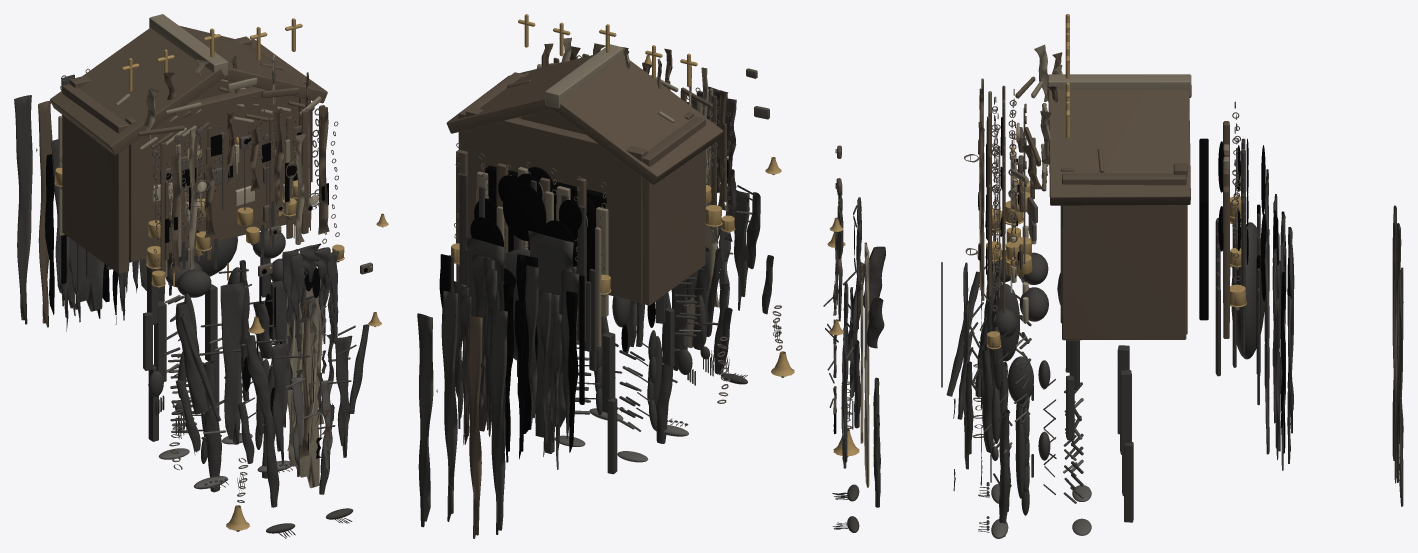
Rendered from penance_carrier_end_goal_v18_clay_authorship.glb.
3 views of the same model, side by side, from view 1: azimuth 30°, elevation 25°; view 2: azimuth 150°, elevation 25°; view 3: azimuth 270°, elevation 25° (orthographic). The views are drawn at different scales.
Visible parts, largest first — view 1: PC_V4_shrine_front_rotten_wall, PC_V4_shrine_left_side_wall, PC_V4_roof_left_steep_slab, PC_V18_back_rotten_hanging_tongue_00, PC_V11_left_torn_front_cloak_sheet, PC_V4_roof_right_steep_slab, PC_V15_rotten_wood_door_mask_broad_read, PC_V18_back_rotten_hanging_tongue_01, PC_V4_roof_ridge_heavy_rot, PC_V11_5_left_arm_pinched_wrapped_sculpt, PC_V18_body_gap_closing_weighted_cloth_00, PC_V11_back_rotten_skin_sheet_left (+42 smaller); view 2: PC_V4_shrine_rear_rotten_wall, PC_V4_roof_left_steep_slab, PC_V4_shrine_left_side_wall, PC_V4_roof_right_steep_slab, PC_V11_back_rotten_skin_sheet_left, PC_V18_back_rotten_hanging_tongue_00, PC_V18_back_rotten_hanging_tongue_02, PC_V18_back_rotten_hanging_tongue_03, PC_V18_back_rotten_hanging_tongue_01, PC_V11_back_deep_rotted_hole_01, PC_V4_roof_ridge_heavy_rot, PC_V4_back_black_rotten_hollow (+49 smaller); view 3: PC_V4_shrine_right_side_wall, PC_V4_roof_right_steep_slab, PC_V4_roof_ridge_heavy_rot, PC_V11_back_swollen_rotten_under_mass, PC_V4_back_black_rotten_hollow, PC_V15_rotten_wood_door_mask_broad_read, PC_V11_back_rotten_skin_sheet_right, PC_V5_back_rotten_vertical_plank_07, PC_V11_5_right_leg_compressed_wrapped_sculpt, PC_V18_back_rotten_hanging_tongue_03, PC_V11_5_right_arm_pinched_wrapped_sculpt, PC_V11_sunken_chest_under_mask (+10 smaller).
Part boxes in pixels (bbox=[...]): PC_V4_shrine_front_rotten_wall: bbox=[125, 77, 299, 262]; PC_V4_shrine_left_side_wall: bbox=[62, 84, 128, 273]; PC_V4_roof_left_steep_slab: bbox=[50, 28, 224, 155]; PC_V18_back_rotten_hanging_tongue_00: bbox=[14, 95, 32, 324]; PC_V11_left_torn_front_cloak_sheet: bbox=[220, 281, 245, 444]; PC_V4_roof_right_steep_slab: bbox=[179, 25, 327, 103]; PC_V15_rotten_wood_door_mask_broad_read: bbox=[286, 279, 321, 488]; PC_V18_back_rotten_hanging_tongue_01: bbox=[38, 101, 52, 327]; PC_V4_roof_ridge_heavy_rot: bbox=[149, 14, 228, 75]; PC_V11_5_left_arm_pinched_wrapped_sculpt: bbox=[175, 302, 208, 414]; PC_V18_body_gap_closing_weighted_cloth_00: bbox=[271, 342, 288, 464]; PC_V11_back_rotten_skin_sheet_left: bbox=[69, 238, 104, 311]; PC_V4_shrine_rear_rotten_wall: bbox=[465, 107, 647, 302]; PC_V4_roof_left_steep_slab: bbox=[552, 55, 723, 184]; PC_V4_shrine_left_side_wall: bbox=[640, 116, 705, 305]; PC_V4_roof_right_steep_slab: bbox=[446, 55, 592, 133]; PC_V11_back_rotten_skin_sheet_left: bbox=[528, 231, 573, 437]; PC_V18_back_rotten_hanging_tongue_00: bbox=[489, 307, 507, 534]; PC_V18_back_rotten_hanging_tongue_02: bbox=[441, 290, 458, 521]; PC_V18_back_rotten_hanging_tongue_03: bbox=[417, 313, 433, 527]; PC_V18_back_rotten_hanging_tongue_01: bbox=[467, 315, 482, 538]; PC_V11_back_deep_rotted_hole_01: bbox=[503, 183, 546, 241]; PC_V4_roof_ridge_heavy_rot: bbox=[545, 44, 623, 108]; PC_V4_back_black_rotten_hollow: bbox=[485, 165, 606, 281]; PC_V4_shrine_right_side_wall: bbox=[1062, 173, 1186, 340]; PC_V4_roof_right_steep_slab: bbox=[1048, 89, 1190, 205]; PC_V4_roof_ridge_heavy_rot: bbox=[1047, 74, 1191, 96]; PC_V11_back_swollen_rotten_under_mass: bbox=[1231, 222, 1265, 359]; PC_V4_back_black_rotten_hollow: bbox=[1199, 138, 1208, 320]; PC_V15_rotten_wood_door_mask_broad_read: bbox=[864, 242, 869, 487]; PC_V11_back_rotten_skin_sheet_right: bbox=[1265, 229, 1269, 454]; PC_V5_back_rotten_vertical_plank_07: bbox=[1223, 186, 1229, 338]; PC_V11_5_right_leg_compressed_wrapped_sculpt: bbox=[999, 409, 1009, 536]; PC_V18_back_rotten_hanging_tongue_03: bbox=[1399, 267, 1403, 506]; PC_V11_5_right_arm_pinched_wrapped_sculpt: bbox=[980, 344, 993, 453]; PC_V11_sunken_chest_under_mask: bbox=[991, 284, 1019, 361].
Size of the model in its own units: 2.34 by 4.48 by 4.94.
